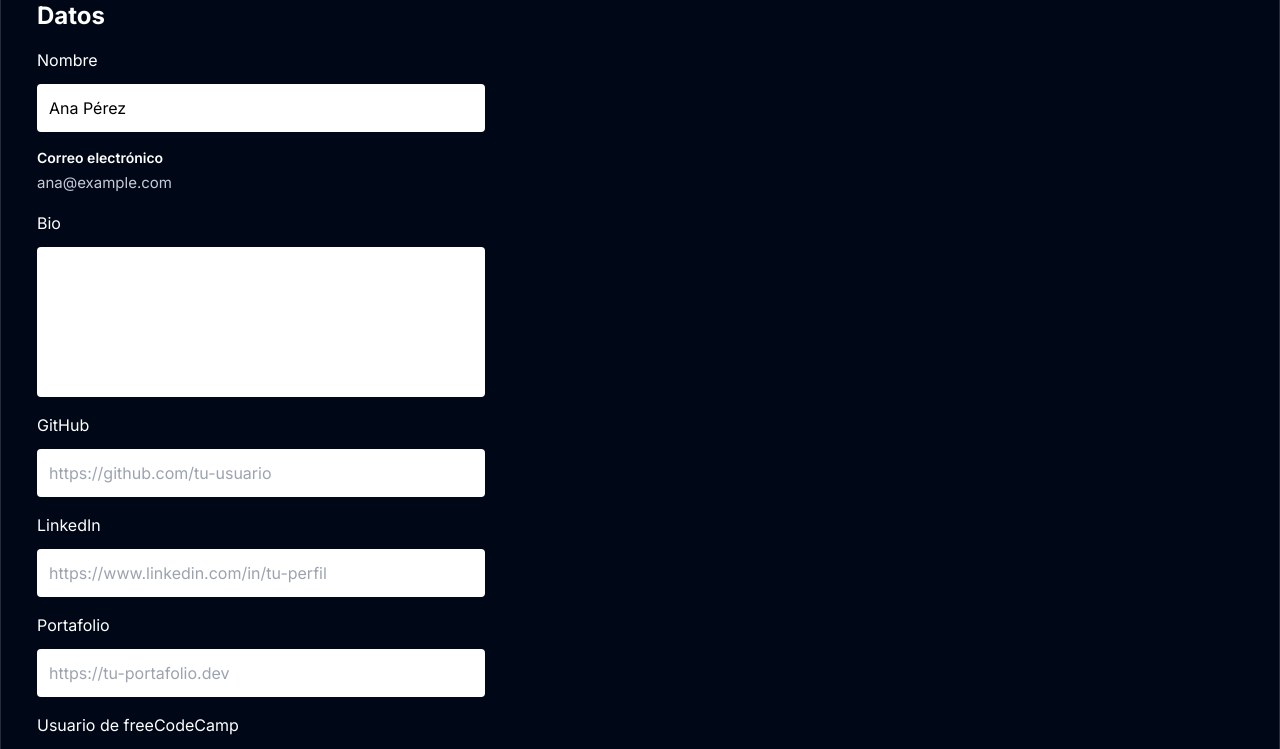
Test: ProfileForm › sends only the bio when only the bio changes
Step 1. Type "Aprendiendo React" into the text box labelled "Bio" → (261, 322), box [37,246,485,396]
(page scrolled)
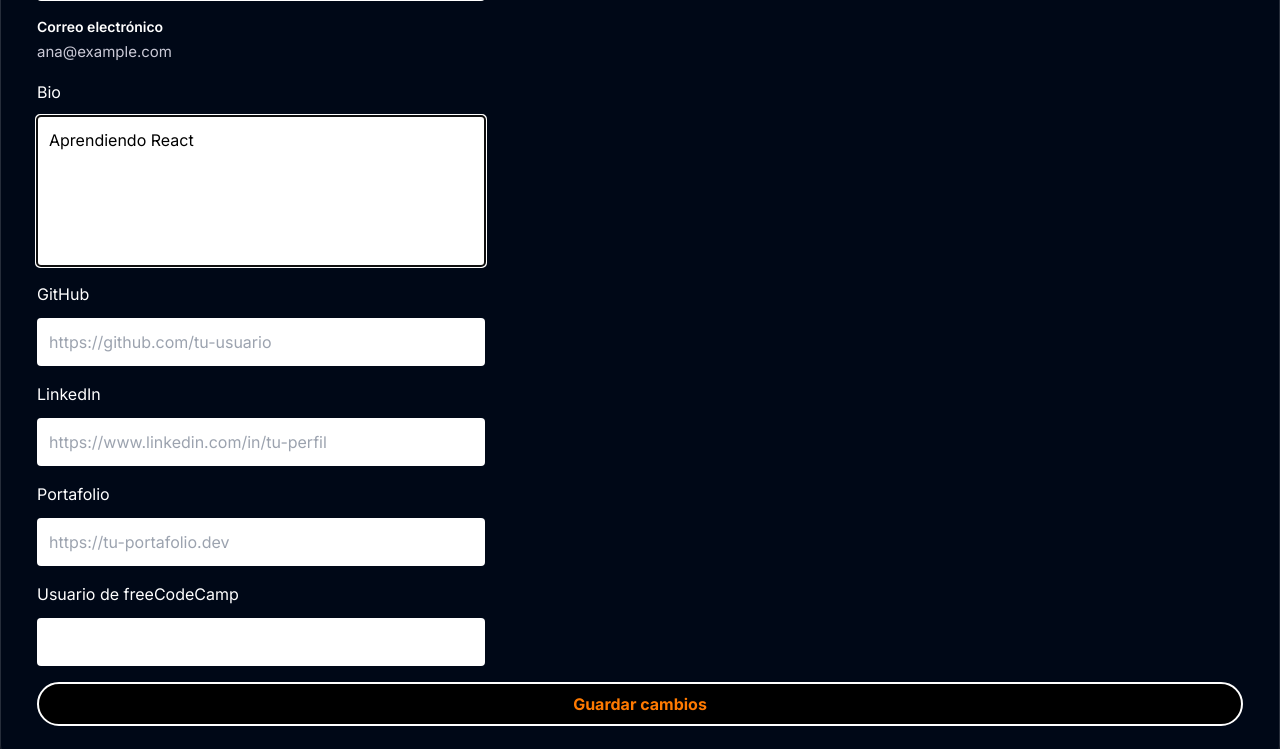
Step 2. Click the button "Guardar cambios" → (640, 704), box [37,682,1243,726]
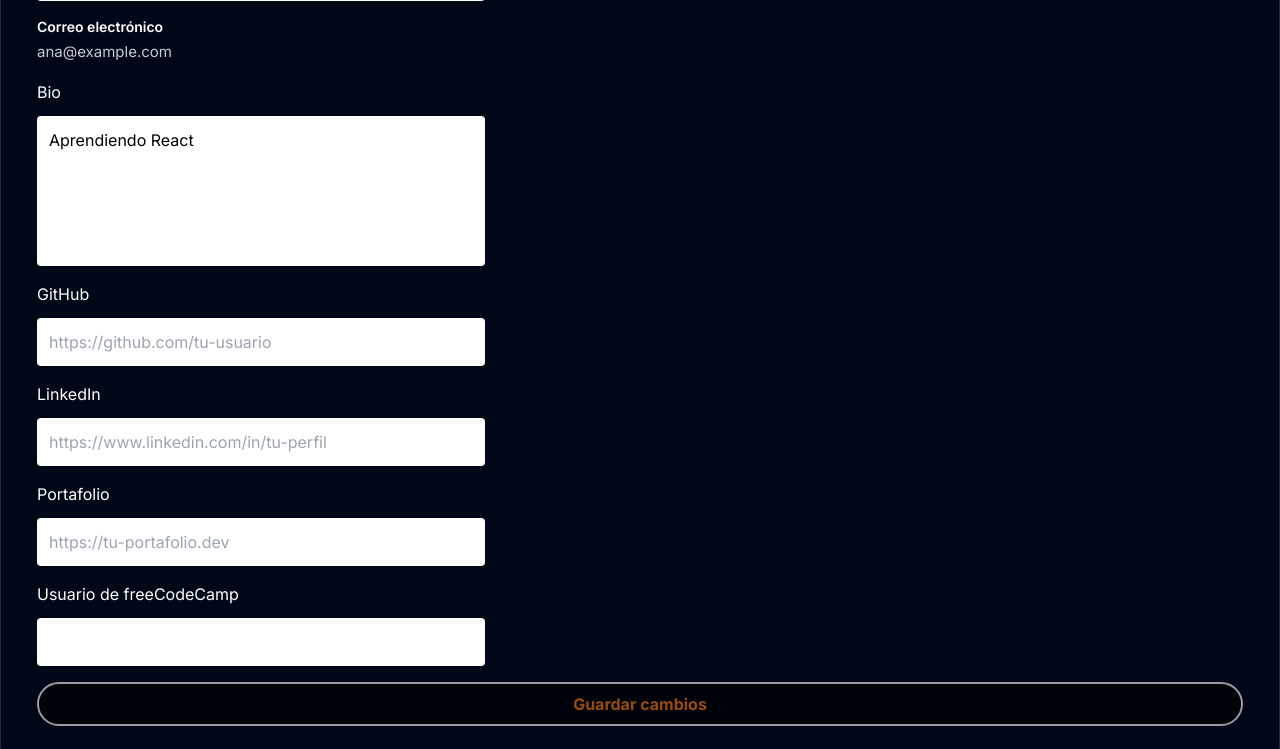
Now the button "Guardar cambios" is disabled, box [37,682,1243,726]
